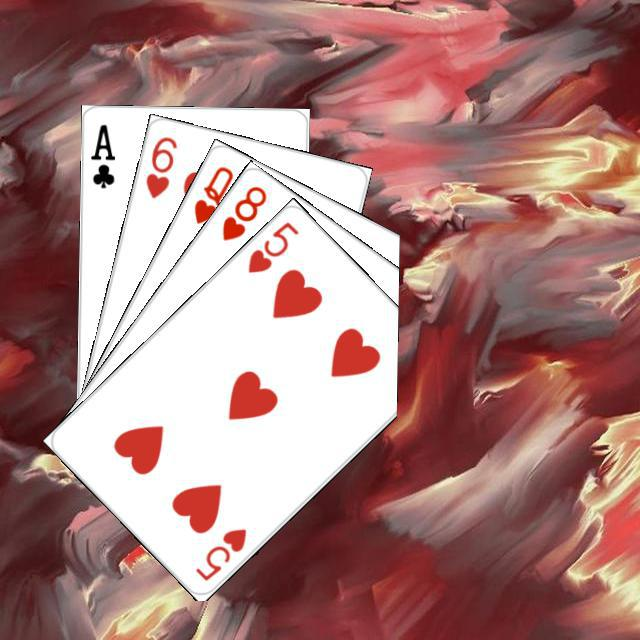5h: (242, 216, 301, 276), (190, 523, 248, 583)
6h: (140, 131, 179, 200)
8h: (216, 180, 269, 243)
Ac: (86, 119, 117, 190)
Qh: (188, 161, 235, 226)
